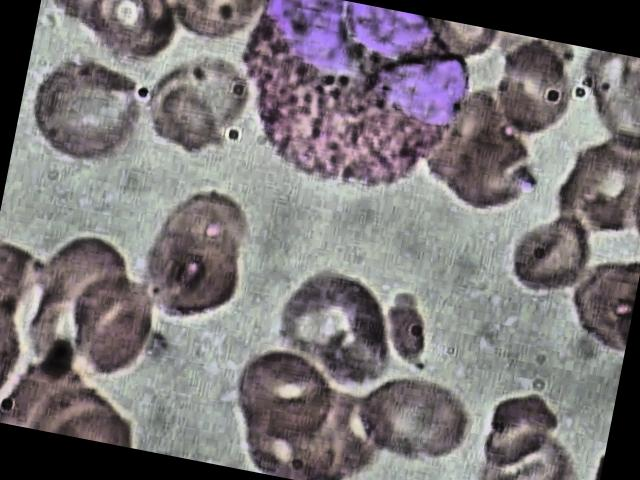RBC: (18, 42, 160, 177), (341, 367, 476, 475), (136, 50, 250, 166), (220, 340, 340, 448), (54, 268, 160, 386), (480, 30, 584, 148), (32, 0, 189, 71), (499, 205, 602, 310), (461, 377, 564, 480)
WBC: (217, 0, 488, 217)
